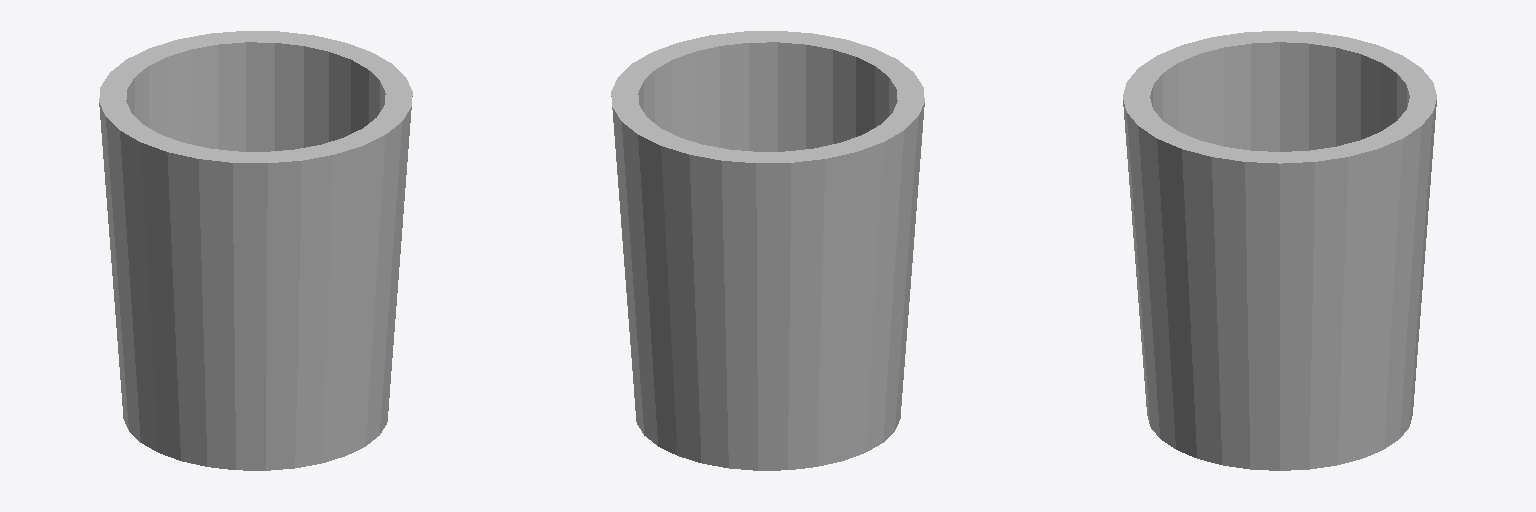
Rendered from dustbin-low.obj.
3 renders of one model, left to right at view 1: azimuth 30°, elevation 25°; view 2: azimuth 150°, elevation 25°; view 3: azimuth 270°, elevation 25°, orthographic.
Visible parts, largest first — view 1: Cylinder003; view 2: Cylinder003; view 3: Cylinder003.
Part boxes in pixels (bbox=[...]): Cylinder003: bbox=[99, 31, 412, 470]; Cylinder003: bbox=[611, 31, 924, 470]; Cylinder003: bbox=[1123, 31, 1436, 470].
Bounding box in the file's own units: 19.49 × 21.72 × 19.49.